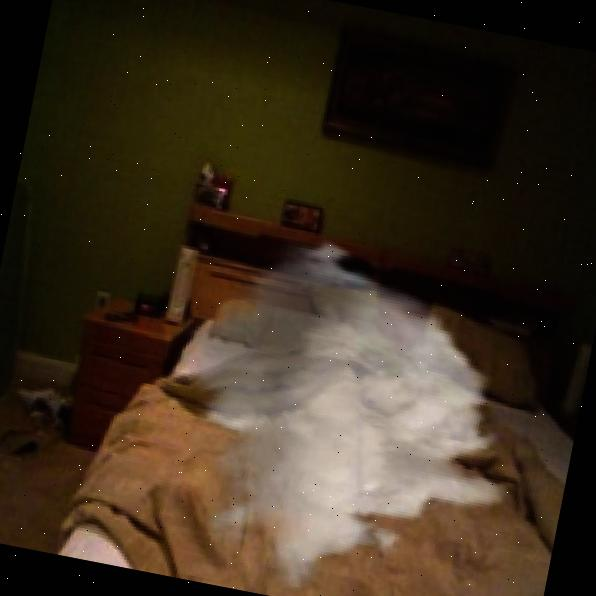smoke: (132, 214, 553, 596)
